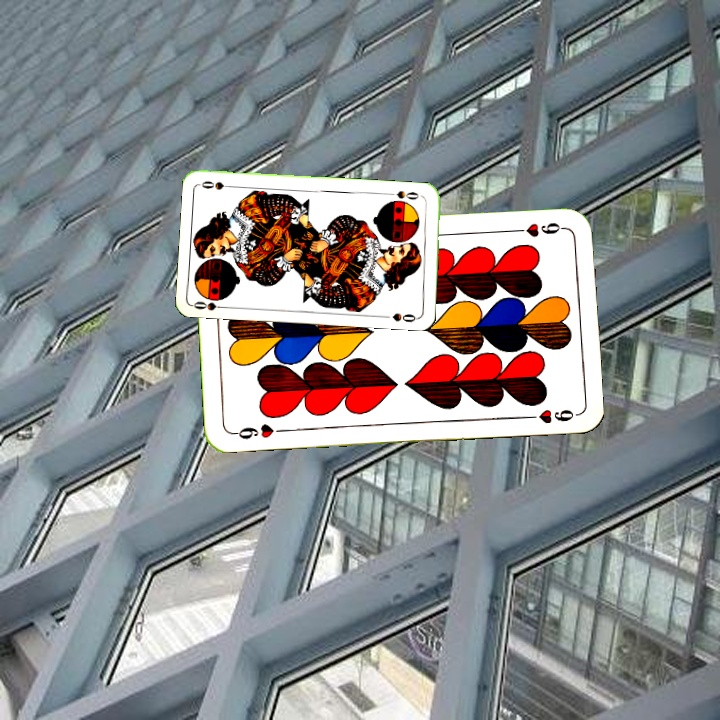H9: (229, 420, 288, 442), (508, 219, 567, 240)
SO: (190, 297, 230, 313), (393, 187, 421, 202)
